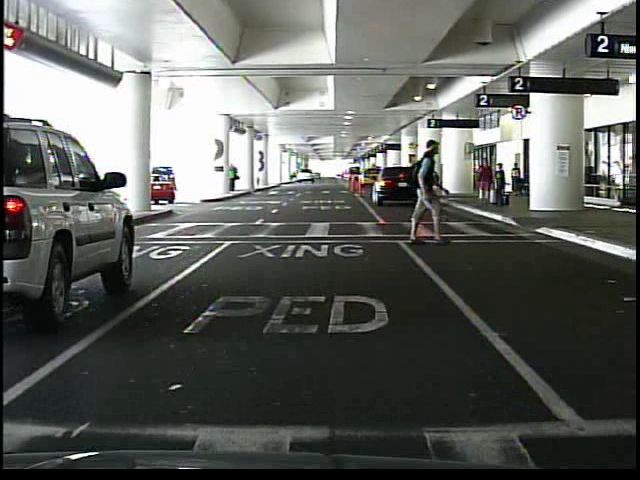person: (392, 143, 465, 246), (472, 158, 495, 203), (495, 162, 510, 206), (511, 162, 521, 194), (229, 164, 239, 193)
